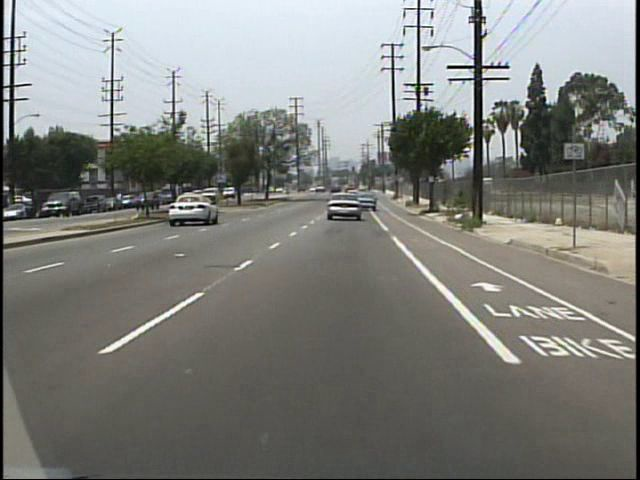person: (114, 190, 124, 210)
